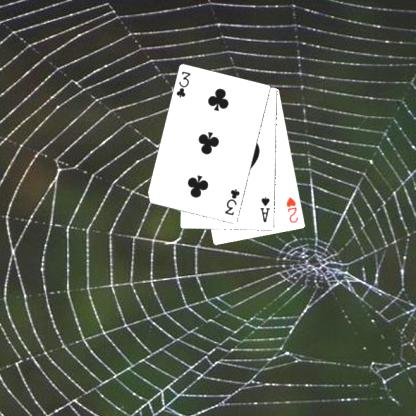2H: (283, 194, 300, 225)
3C: (173, 68, 192, 100), (222, 186, 241, 217)
AS: (257, 194, 272, 224)
